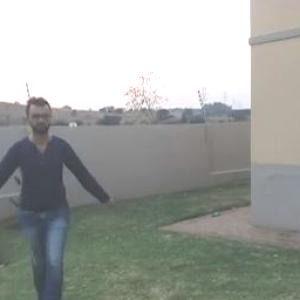land: (1, 71, 124, 299)
